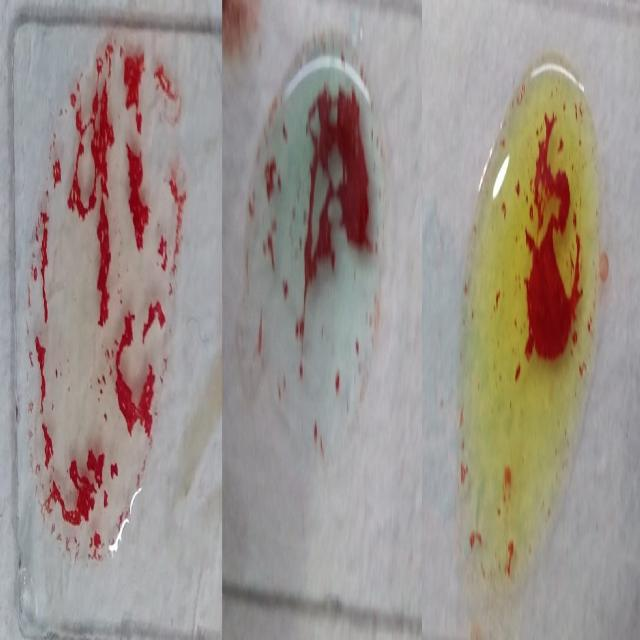A: (246, 37, 382, 481)
B: (464, 39, 602, 624)
D: (27, 31, 180, 569)
